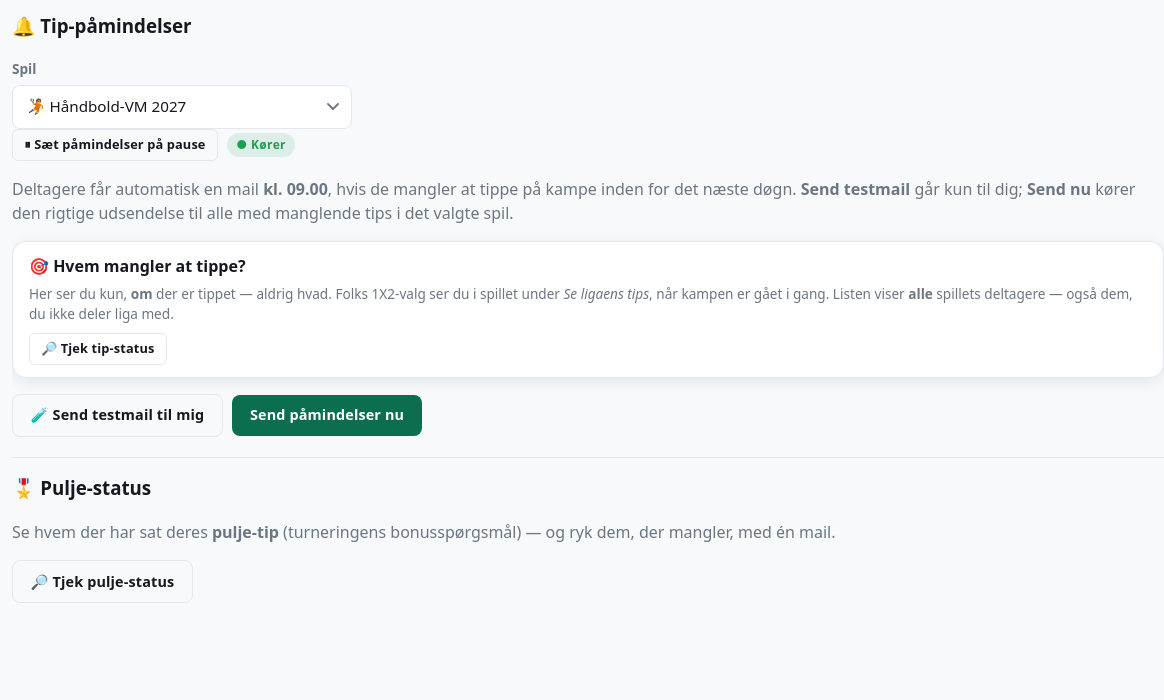
GameReminderTab — Hvem mangler at tippe? › turnering med fasekalender: «Dag», dagens navn og «kampe på dagen»
Click the button with test id "tipstatus-tjek" at (98,349), box [29, 332, 167, 365]
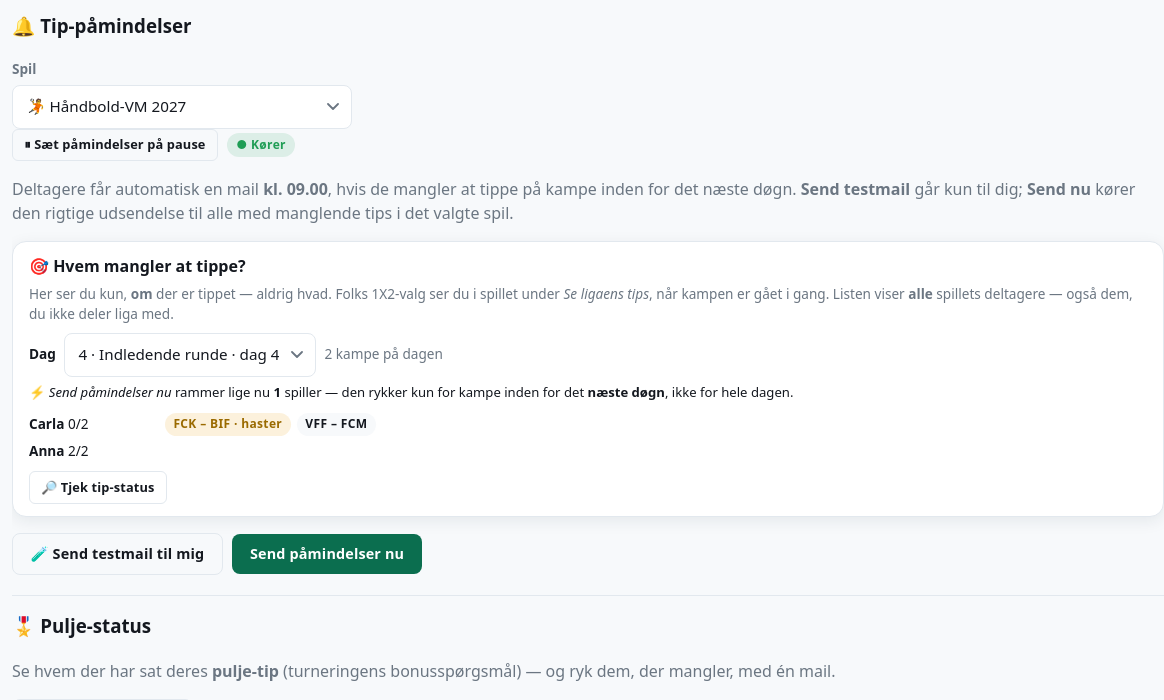
Result: the element with test id "tipstatus-resultat" shows "2 kampe på dagen" at [29, 332, 793, 460]
Result: the element with test id "tipstatus-knaptal" shows "ikke for hele dagen" at [29, 382, 793, 400]
